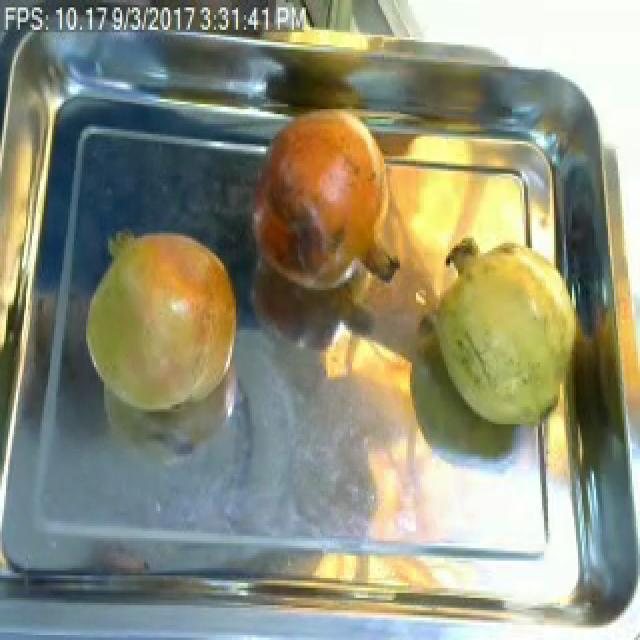fruit: (416, 228, 592, 439), (76, 218, 250, 429), (248, 96, 402, 302)
